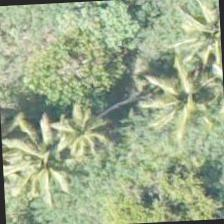Kelapa_Sawit: (36, 75, 131, 170), (131, 43, 223, 139), (0, 112, 89, 206), (160, 0, 222, 79)
